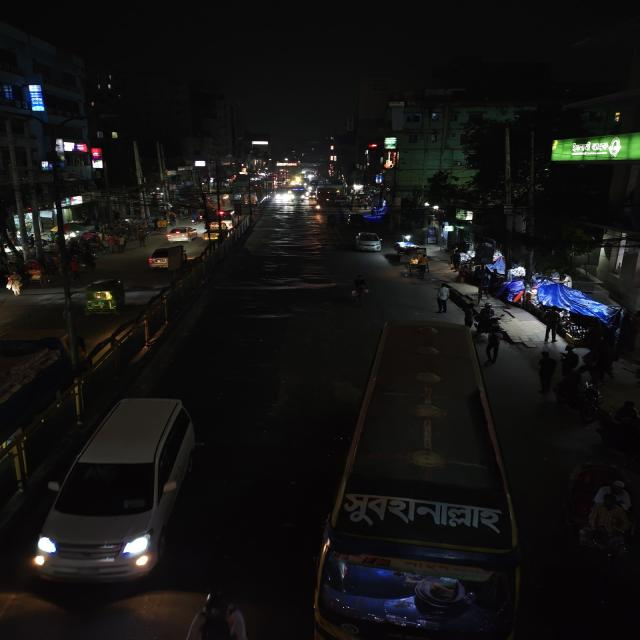bus: (322, 319, 516, 640), (288, 187, 306, 203)
car: (30, 397, 208, 587), (146, 243, 193, 272), (205, 208, 239, 234), (352, 230, 385, 252), (164, 225, 198, 243)
cng: (81, 276, 128, 317)
motorcycle: (347, 275, 372, 307), (2, 270, 25, 298)
pedestrian: (533, 350, 560, 396), (433, 281, 453, 313)
pickup_van: (200, 222, 229, 242)
rickshaw: (560, 488, 637, 568), (20, 258, 52, 286)
